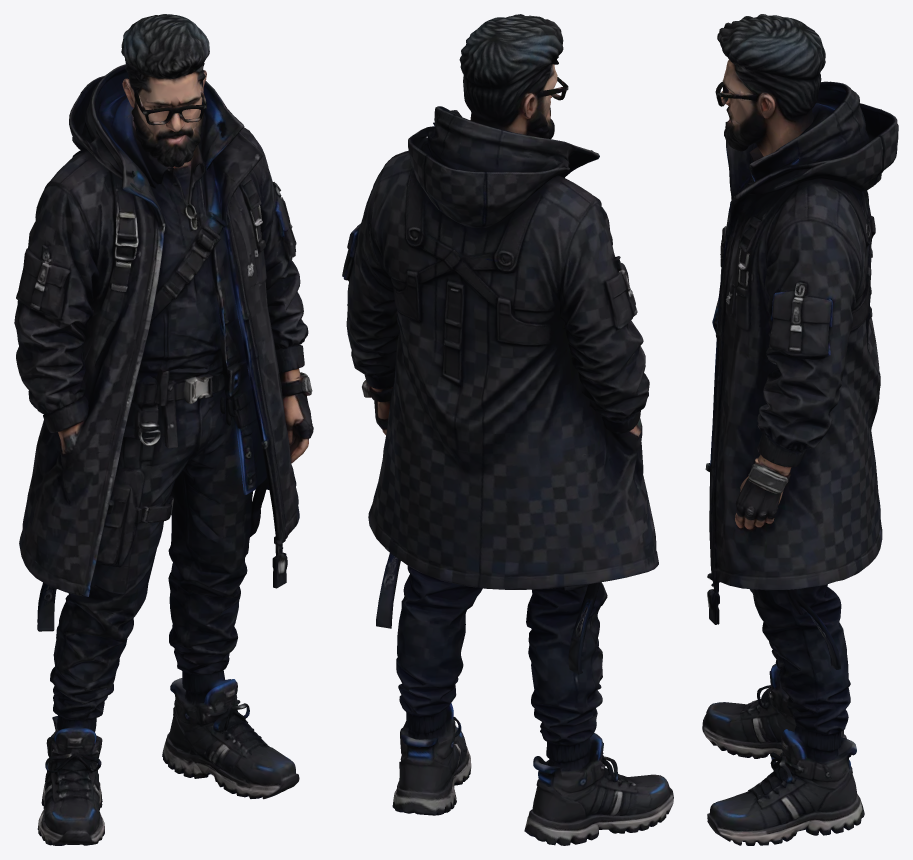
3 renders of one model, left to right at view 1: azimuth 30°, elevation 25°; view 2: azimuth 150°, elevation 25°; view 3: azimuth 270°, elevation 25°, orthographic.
Parts seen in each view (by area): view 1: world; view 2: world; view 3: world.
Boxes of the visible parts, left/top/right/bottom form: world: left=14, top=14, right=313, bottom=845; world: left=342, top=14, right=673, bottom=845; world: left=702, top=14, right=898, bottom=845.
Bounding box in the file's own units: 0.3813 × 0.9998 × 0.2297.
1 material, 1 textured.
